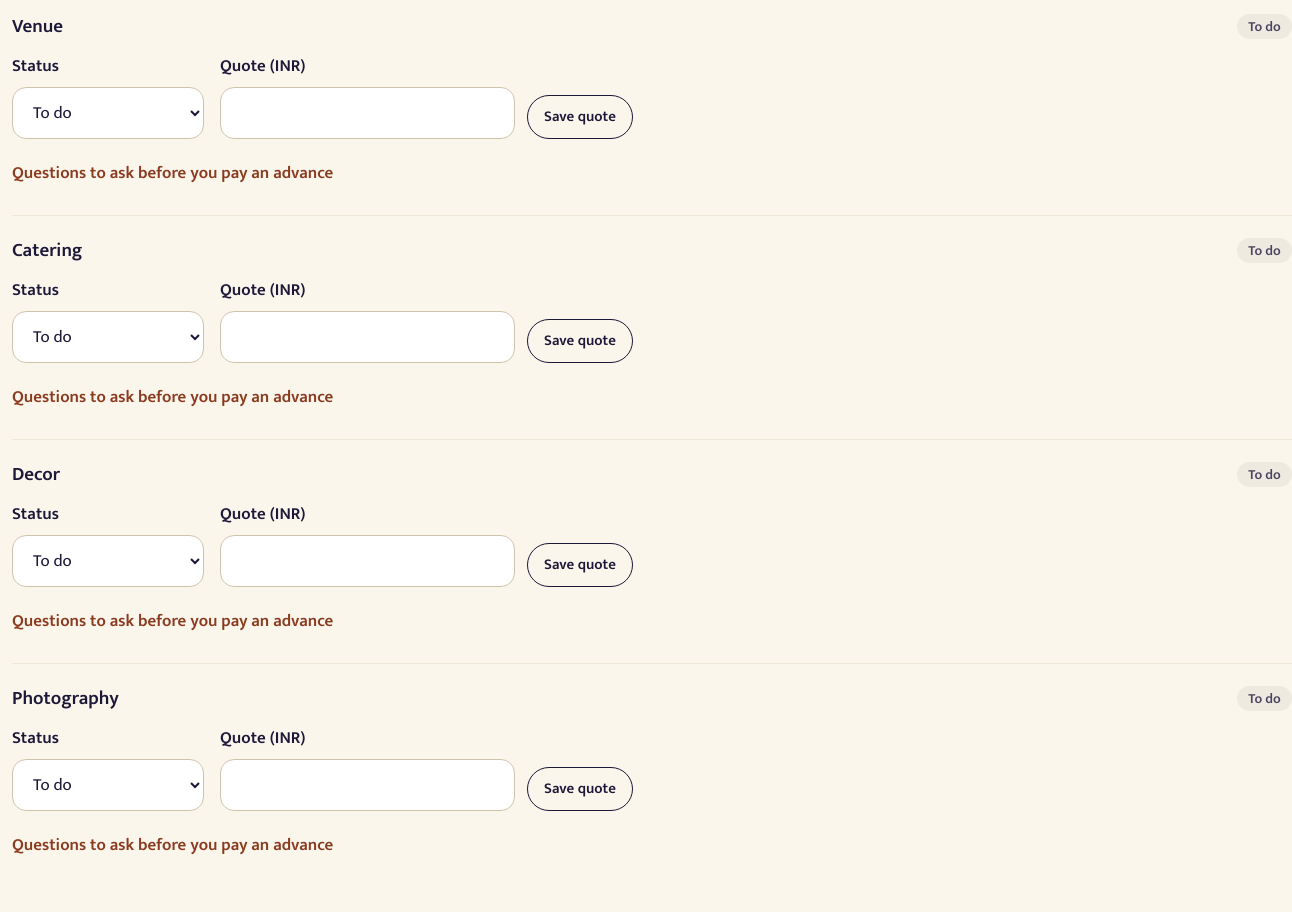
Test case: VendorsPanel › saves a quote and confirms it in the plan's currency
In the field labelled "Quote (INR)" below "Venue": (368, 113) [220,87,515,139], type "6,50,000"
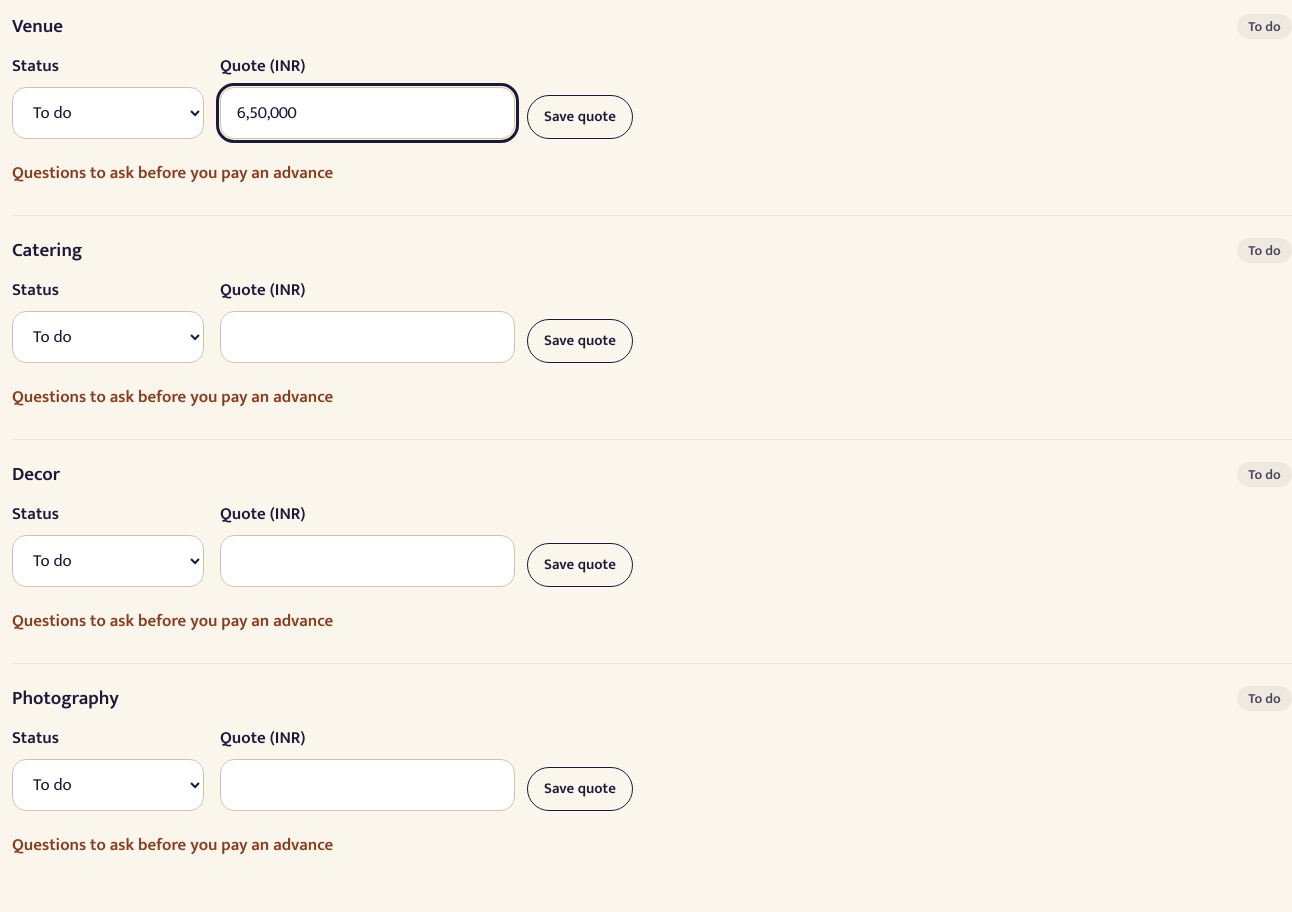
Click the 1st button "Save quote": (580, 117) [527,95,633,139]
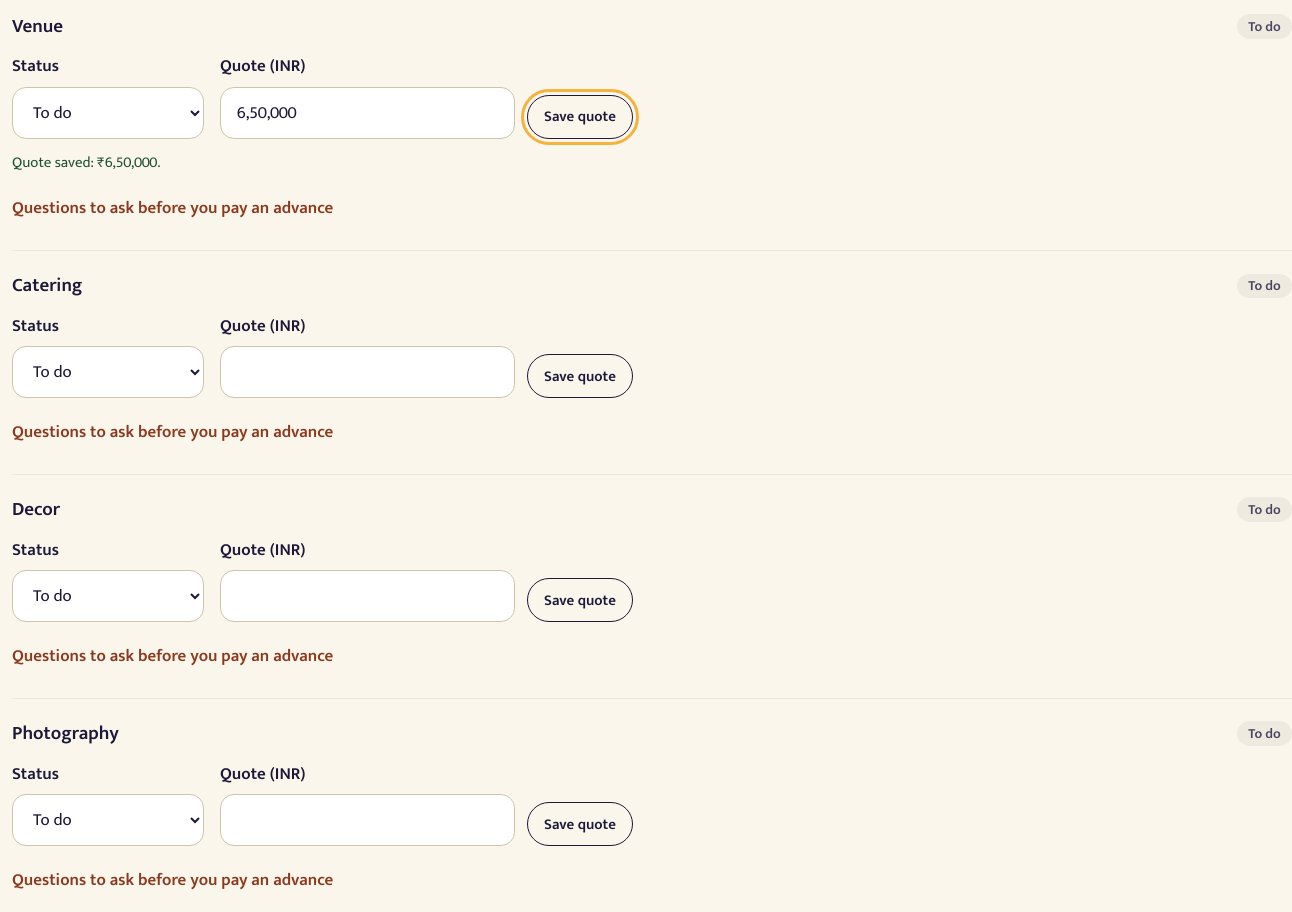
Now the text "Quote saved: ₹6,50,000." is shown, box [12,150,160,175]
